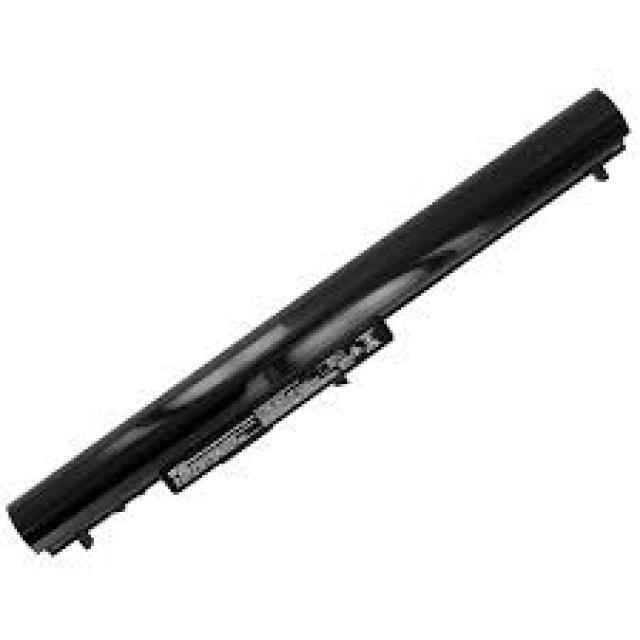battery: (2, 92, 640, 560)
